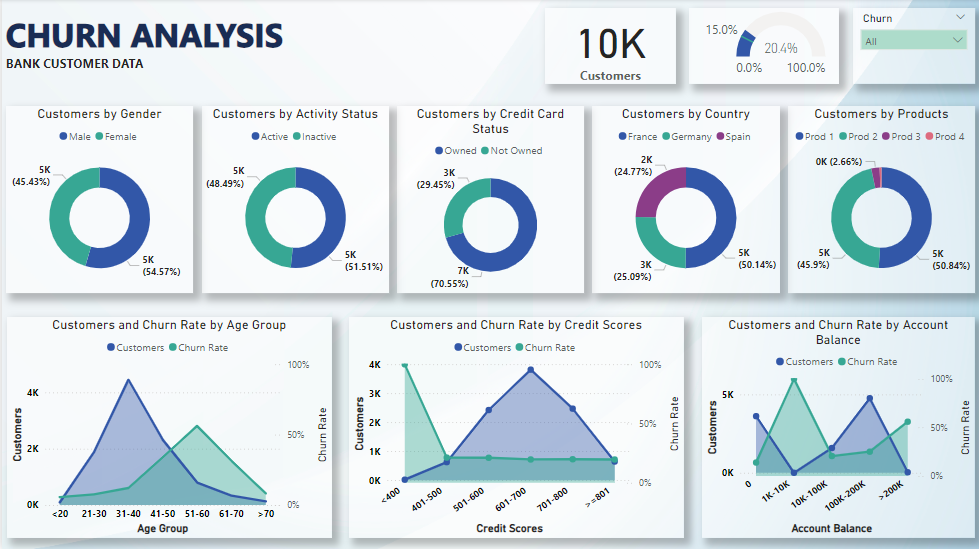

Layout of this report page (visuals, bound fields, positions):
{"tool":"powerbi","page":{"name":"Churn Analysis","canvas":[1280,720],"ordinal":0},"visuals":[{"type":"card","fields":{"Values":["Bank Customer Churn Prediction.Customers"]},"box":[710.4,11.5,171.4,99.4],"z":0},{"type":"donutChart","fields":{"Category":["Bank Customer Churn Prediction.Gender"],"Y":["Bank Customer Churn Prediction.Customers"]},"box":[5.8,140.7,245,245],"z":1000},{"type":"donutChart","fields":{"Y":["Bank Customer Churn Prediction.Customers"],"Category":["Bank Customer Churn Prediction.Activity Status"]},"box":[261.5,140.7,244.8,244.8],"z":2000},{"type":"donutChart","fields":{"Y":["Bank Customer Churn Prediction.Customers"],"Category":["Bank Customer Churn Prediction.Credit Card Status"]},"box":[517.1,140.7,244.8,244.8],"z":3000},{"type":"donutChart","fields":{"Y":["Bank Customer Churn Prediction.Customers"],"Category":["Bank Customer Churn Prediction.Country"]},"box":[772.6,140.7,246.2,244.8],"z":4000},{"type":"donutChart","fields":{"Y":["Bank Customer Churn Prediction.Customers"],"Category":["Bank Customer Churn Prediction.Products"]},"box":[1029.6,140.7,244.8,244.8],"z":5000},{"type":"areaChart","fields":{"Category":["Age Group.Age Group"],"Y":["Bank Customer Churn Prediction.Customers"],"Y2":["Bank Customer Churn Prediction.Churn Rate"]},"box":[6.2,416.2,424.8,289.4],"z":6000},{"type":"areaChart","fields":{"Category":["Credit Score Group.Credit Scores"],"Y":["Bank Customer Churn Prediction.Customers"],"Y2":["Bank Customer Churn Prediction.Churn Rate"]},"box":[454.7,416.2,437.8,289.4],"z":7000},{"type":"areaChart","fields":{"Category":["Account Balance Group.Account Balance"],"Y":["Bank Customer Churn Prediction.Customers"],"Y2":["Bank Customer Churn Prediction.Churn Rate"]},"box":[916.3,416.2,357.1,289.4],"z":8000},{"type":"slicer","fields":{"Values":["Bank Customer Churn Prediction.Churn"]},"box":[1113.6,11.5,159.8,99.4],"z":9000},{"type":"gauge","fields":{"Y":["Bank Customer Churn Prediction.Churn Rate"],"MinValue":["Min(Bank Customer Churn Prediction.Min Churn Rate)"],"MaxValue":["Max(Bank Customer Churn Prediction.Max Churn Rate)"],"TargetValue":["Max(Bank Customer Churn Prediction.Target Churn Rate)"]},"box":[899.8,11.5,195.8,99.4],"z":10000},{"type":"textbox","box":[0,11.5,492.5,90.7],"z":11000}]}

Visuals, with their boxes in screenshot pixels (x1, y1, x2, y2), scaled from the page's 1280x720 canvas onto the 979x549 screenshot:
card - Bank Customer Churn Prediction.Customers: detection(543, 9, 674, 85)
donutChart - Bank Customer Churn Prediction.Gender x Bank Customer Churn Prediction.Customers: detection(4, 107, 192, 294)
donutChart - Bank Customer Churn Prediction.Customers x Bank Customer Churn Prediction.Activity Status: detection(200, 107, 387, 294)
donutChart - Bank Customer Churn Prediction.Customers x Bank Customer Churn Prediction.Credit Card Status: detection(396, 107, 583, 294)
donutChart - Bank Customer Churn Prediction.Customers x Bank Customer Churn Prediction.Country: detection(591, 107, 779, 294)
donutChart - Bank Customer Churn Prediction.Customers x Bank Customer Churn Prediction.Products: detection(787, 107, 975, 294)
areaChart - Age Group.Age Group x Bank Customer Churn Prediction.Customers: detection(5, 317, 330, 538)
areaChart - Credit Score Group.Credit Scores x Bank Customer Churn Prediction.Customers: detection(348, 317, 683, 538)
areaChart - Account Balance Group.Account Balance x Bank Customer Churn Prediction.Customers: detection(701, 317, 974, 538)
slicer - Bank Customer Churn Prediction.Churn: detection(852, 9, 974, 85)
gauge - Bank Customer Churn Prediction.Churn Rate x Min(Bank Customer Churn Prediction.Min Churn Rate): detection(688, 9, 838, 85)
textbox: detection(0, 9, 377, 78)
